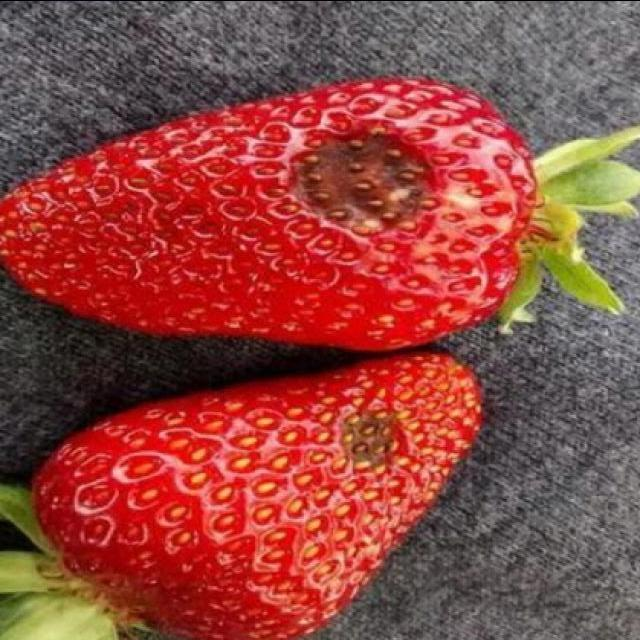Anthracnose Fruit Rot: (288, 116, 442, 244), (335, 400, 403, 486)
